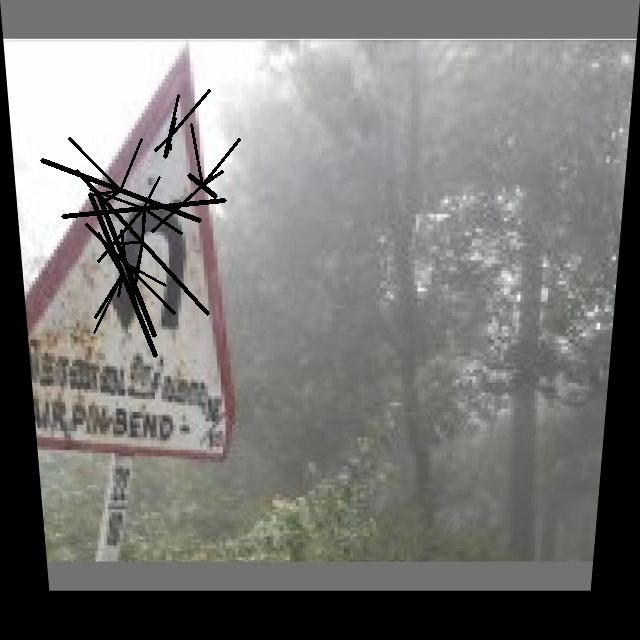Left_Hair_Pin_Bend: (25, 114, 240, 358)
